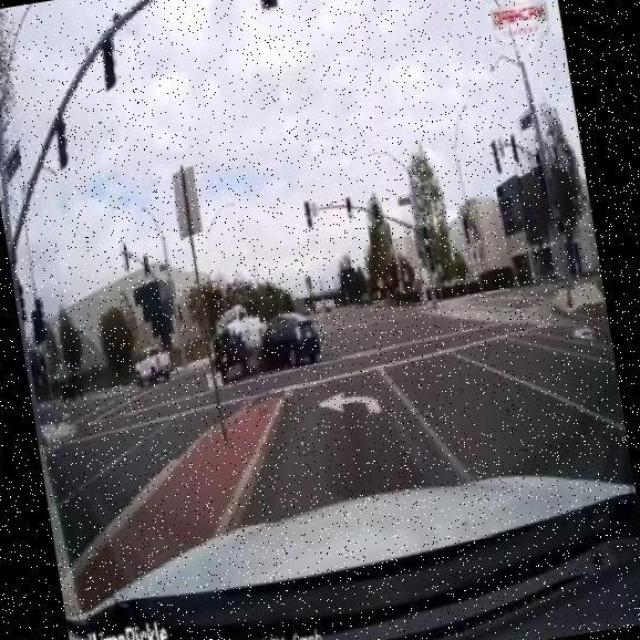accident: (204, 291, 326, 381)
